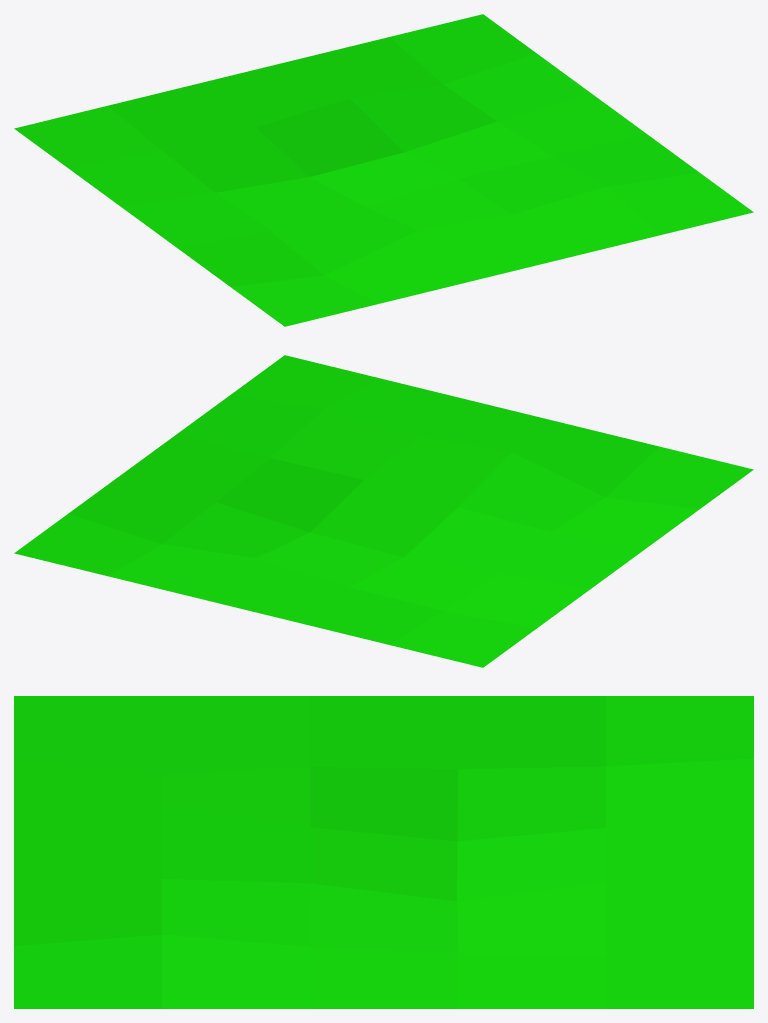
Rendered from Park Square 4.FBX.
3 renders of one model, top to bottom at view 1: azimuth 30°, elevation 25°; view 2: azimuth 150°, elevation 25°; view 3: azimuth 270°, elevation 25°, orthographic. The views are drawn at different scales.
Visible parts, largest first — view 1: Box001; view 2: Box001; view 3: Box001.
Part boxes in pixels (x1,y1,x2,y2): Box001: [14, 14, 753, 326]; Box001: [14, 355, 753, 667]; Box001: [14, 696, 753, 1008].
Bounding box in the file's own units: 1000 × 52.2 × 1000.
